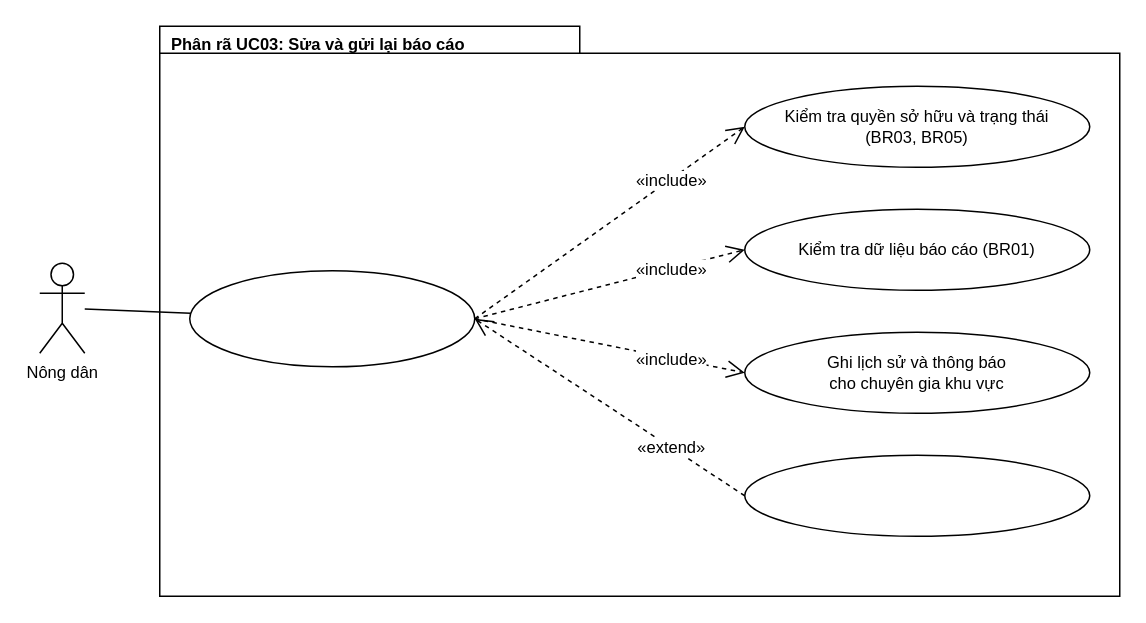
The diagram is 1146 pixels wide and 623 high, and some of its shapes have lost their labels. The shapes that lost their labels are listed below. From the top down, each one's centre as x and y in pixels, then its label:
the point at 331,318: UC03 Sửa và gửi lại báo cáo
the point at 916,495: Bổ sung ảnh và gửi lại (BR04)
